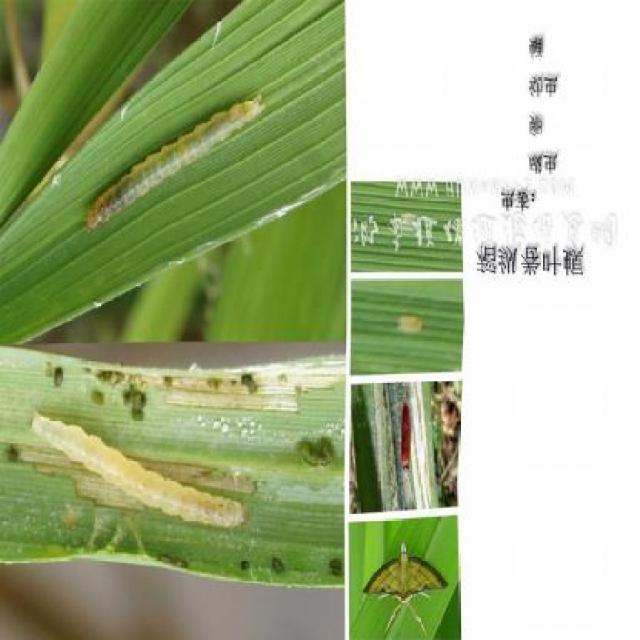leaf-folder: (21, 400, 248, 552), (80, 74, 271, 237), (397, 386, 425, 488), (391, 306, 434, 348)
